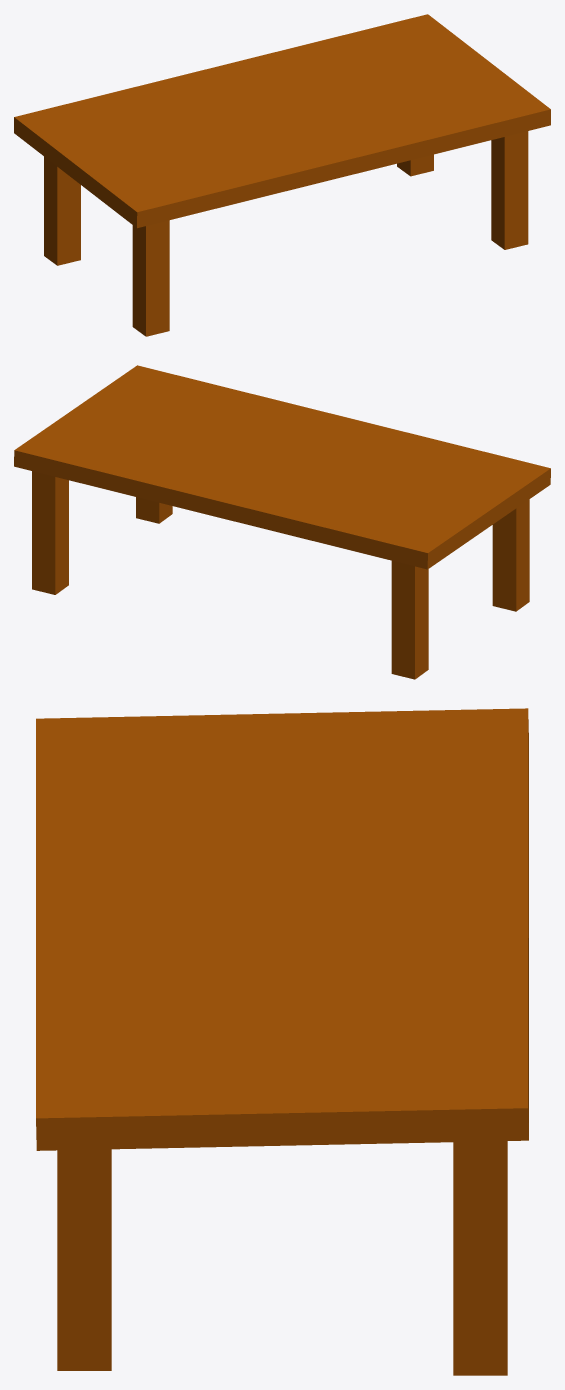
3 views of the same model, one above another, from view 1: azimuth 30°, elevation 25°; view 2: azimuth 150°, elevation 25°; view 3: azimuth 270°, elevation 25° (orthographic). The views are drawn at different scales.
Visible parts, largest first — view 1: O1; view 2: O1; view 3: O1.
Boxes of the visible parts, box(x1,y1,x2,y2) form: O1: box(14, 14, 550, 336); O1: box(14, 365, 550, 679); O1: box(36, 708, 528, 1375).
Bounding box in the file's own units: 3.88 × 1.25 × 2.
Materials: 1 (1 with a texture image).
